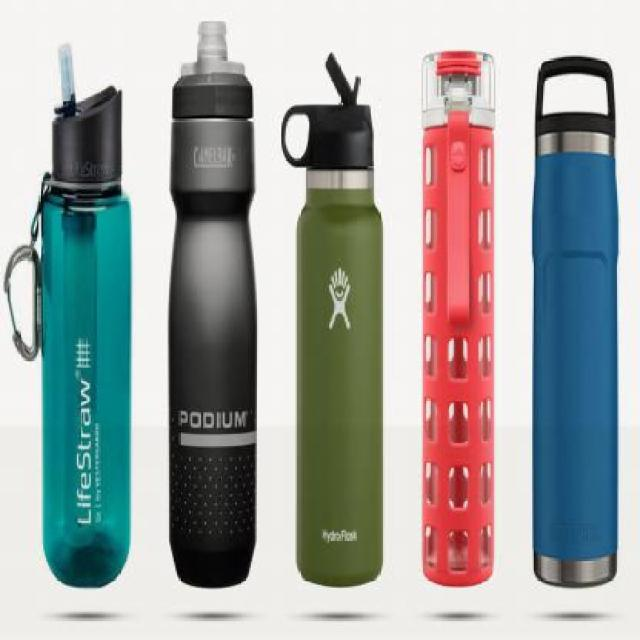Drinking: (275, 28, 390, 600), (158, 0, 268, 585), (27, 42, 136, 629), (527, 38, 631, 604), (414, 12, 501, 586)
